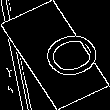O_SW: (15, 24, 95, 86)
